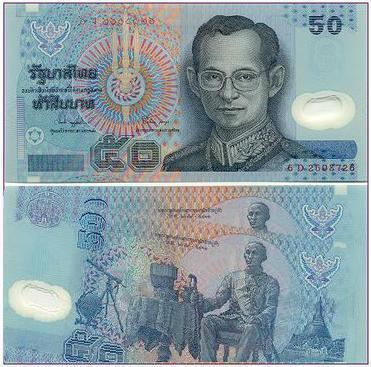50BahtTai: (4, 190, 364, 362)
